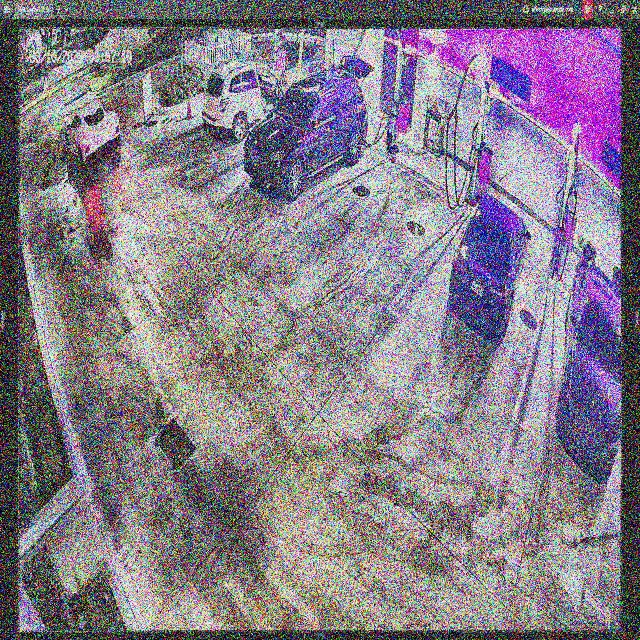Car: (245, 61, 370, 201), (448, 194, 528, 337)
